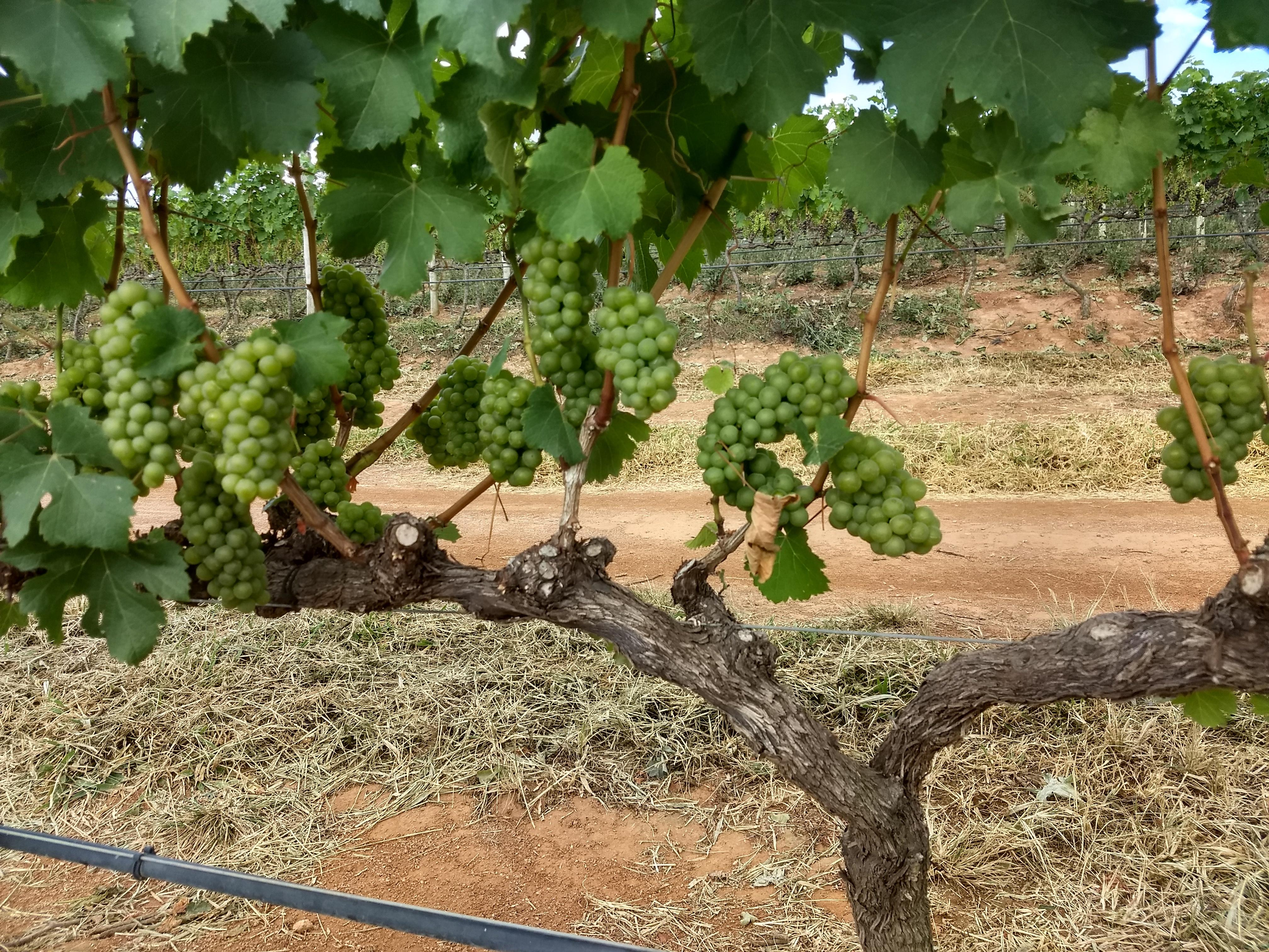leaf: (862, 0, 1158, 150), (319, 143, 486, 296), (0, 529, 189, 664), (147, 21, 321, 154), (305, 4, 435, 149), (136, 60, 245, 191), (523, 123, 644, 241), (0, 0, 132, 105), (826, 107, 942, 222), (0, 187, 105, 309), (0, 96, 123, 200), (1078, 99, 1177, 193), (417, 0, 526, 71), (0, 444, 75, 545), (38, 473, 135, 550), (129, 0, 230, 71), (274, 311, 350, 394), (755, 526, 829, 603), (768, 114, 829, 207), (132, 306, 205, 378), (47, 401, 121, 470), (522, 384, 583, 465), (586, 410, 650, 482), (571, 33, 623, 107), (0, 189, 42, 274), (578, 0, 656, 41), (1208, 0, 1268, 49), (804, 414, 853, 465), (1174, 688, 1236, 727), (235, 0, 291, 31), (159, 137, 202, 165), (486, 336, 512, 378), (702, 361, 734, 395), (0, 598, 26, 637), (685, 520, 717, 549), (432, 522, 460, 541), (1246, 694, 1268, 718), (375, 0, 377, 6), (511, 30, 514, 32), (301, 391, 306, 392), (55, 434, 56, 439), (177, 107, 179, 109), (798, 420, 800, 422), (218, 156, 221, 157)
